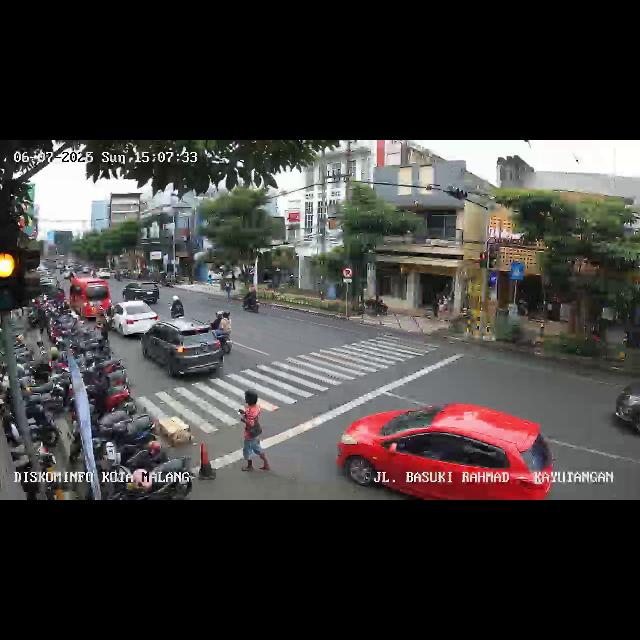car: (336, 402, 554, 500), (142, 320, 226, 380), (109, 300, 160, 340), (69, 276, 111, 320), (122, 280, 160, 306)
motorcycle: (608, 376, 640, 442), (210, 308, 233, 356), (168, 294, 186, 322), (242, 288, 260, 314)
person: (236, 391, 270, 471)
